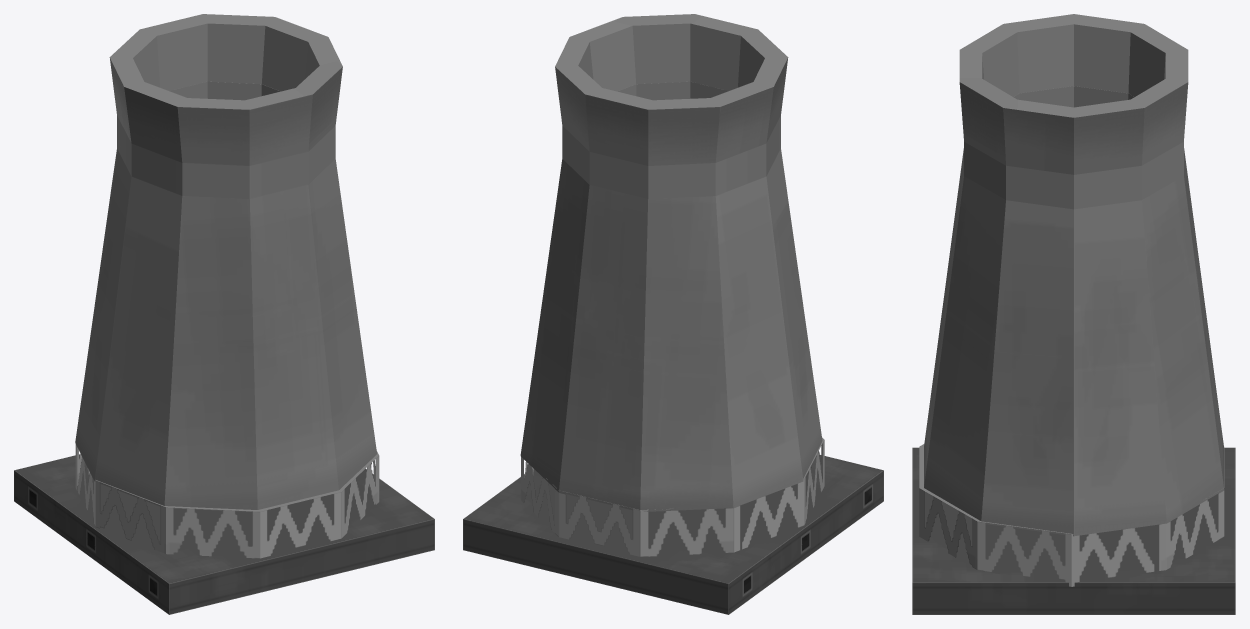
File: industrial_cooling_tower.obj
The picture shows the model from 3 angles, left to right: view 1: azimuth 30°, elevation 25°; view 2: azimuth 150°, elevation 25°; view 3: azimuth 270°, elevation 25°; orthographic projection. The views are drawn at different scales.
Parts seen in each view (by area): view 1: tube; view 2: tube; view 3: tube.
Boxes of the visible parts, <box> form: tube: <box>14,14,434,614</box>; tube: <box>463,14,883,614</box>; tube: <box>912,14,1235,614</box>.
Bounding box in the file's own units: 11.28 × 18.75 × 11.38.
